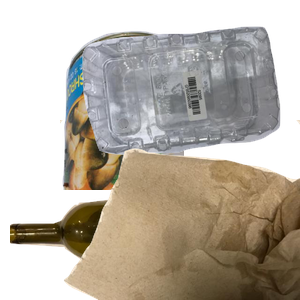glass: (10, 189, 250, 300)
metal: (60, 28, 300, 208)
plastic: (80, 24, 300, 172)
trash: (60, 120, 300, 300)
